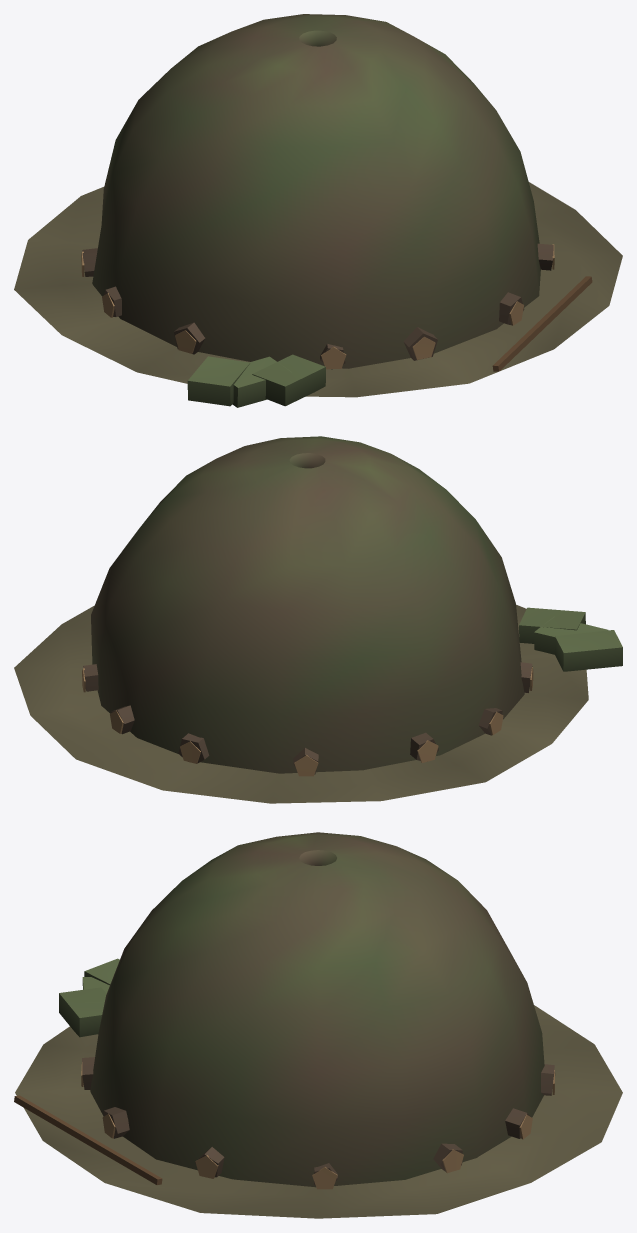
Rendered from ph_prop_charcoal_kiln.glb.
3 views of the same model, one above another, from view 1: azimuth 30°, elevation 25°; view 2: azimuth 150°, elevation 25°; view 3: azimuth 270°, elevation 25° (orthographic). The views are drawn at different scales.
Parts seen in each view (by area): view 1: ph_prop_charcoal_kiln; view 2: ph_prop_charcoal_kiln; view 3: ph_prop_charcoal_kiln.
Boxes of the visible parts, x1,y1,x2,y2 form: ph_prop_charcoal_kiln: [14, 14, 622, 407]; ph_prop_charcoal_kiln: [14, 436, 622, 803]; ph_prop_charcoal_kiln: [14, 832, 622, 1218].
Bounding box in the file's own units: 1.87 × 0.8236 × 1.92.
